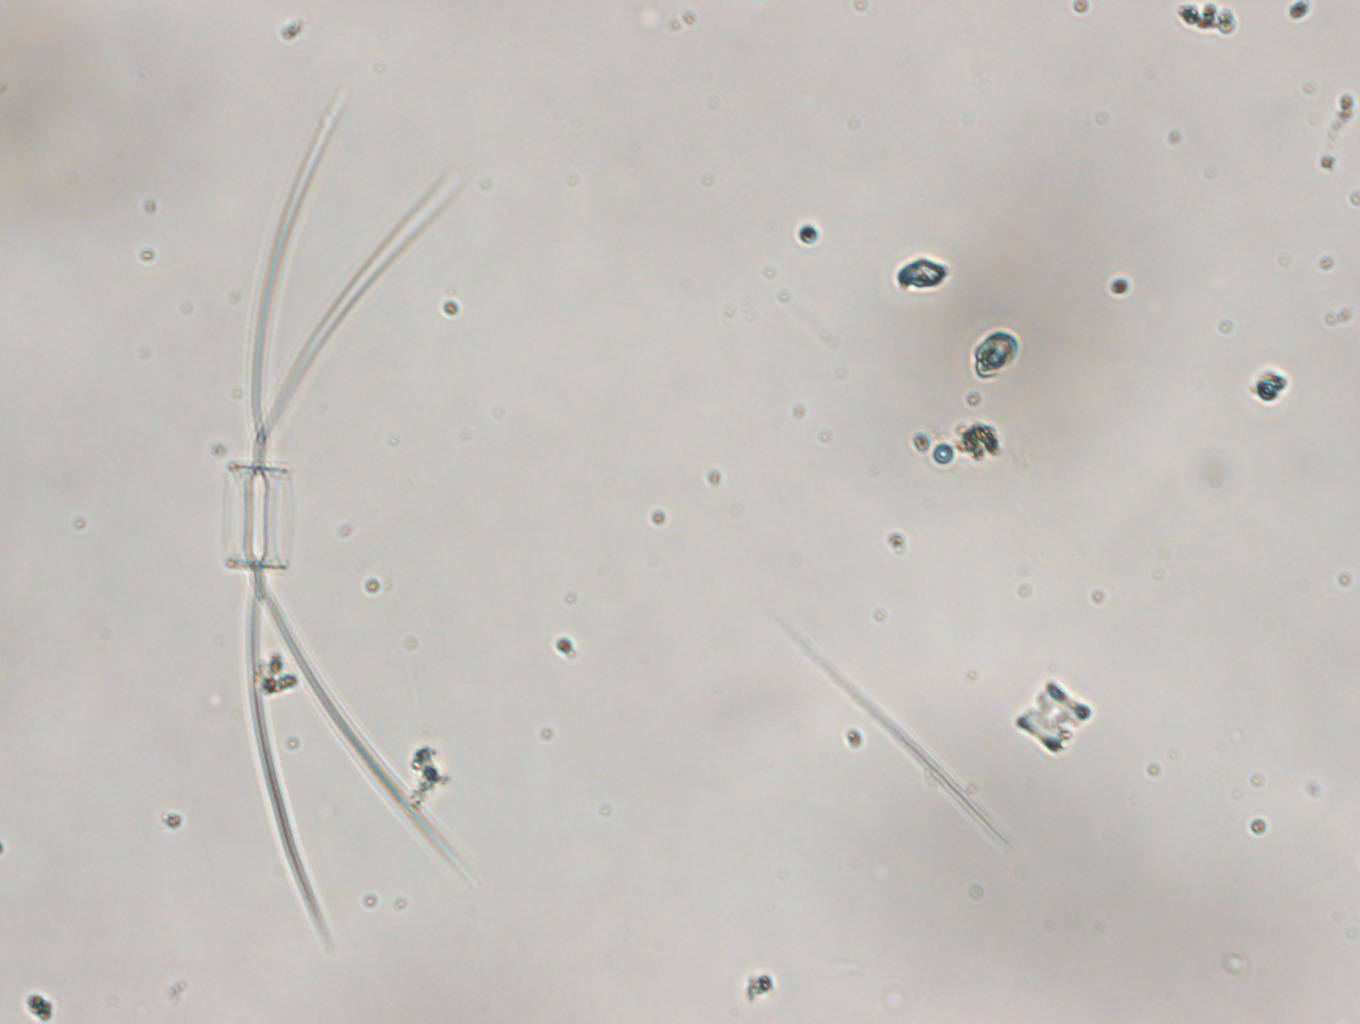chaetoceros: (211, 61, 489, 962)
